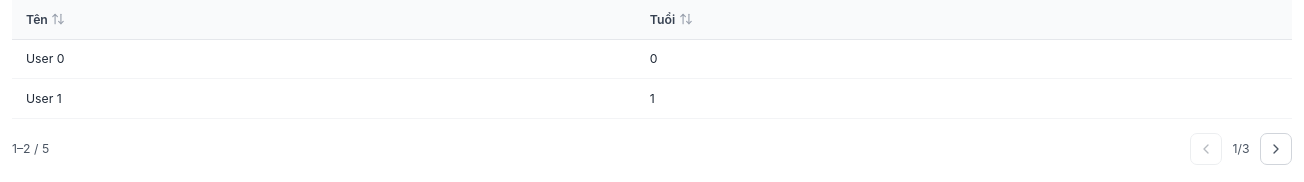
it: DataTable › phân trang: giới hạn số hàng và chuyển trang
Check: the text "User 0" is shown, box [12,39,636,78]
Sang trang sau
What coordinates should you click on to do the following:
click the button named "Trang sau"
I would click on:
 (1276, 148)
Its box is [1260,132,1292,164].
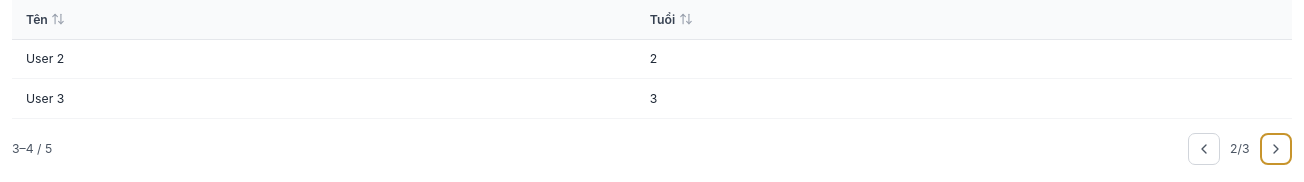
Check: the text "User 2" is shown, box [12,39,636,78]
Check: the text "User 0" is gone
